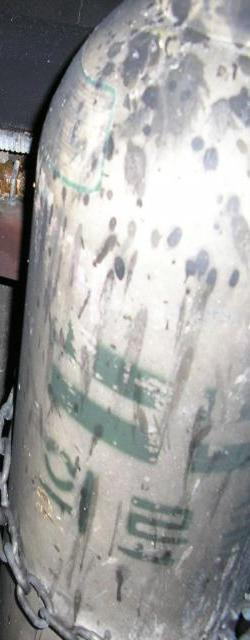cylinder: (1, 0, 250, 640)
